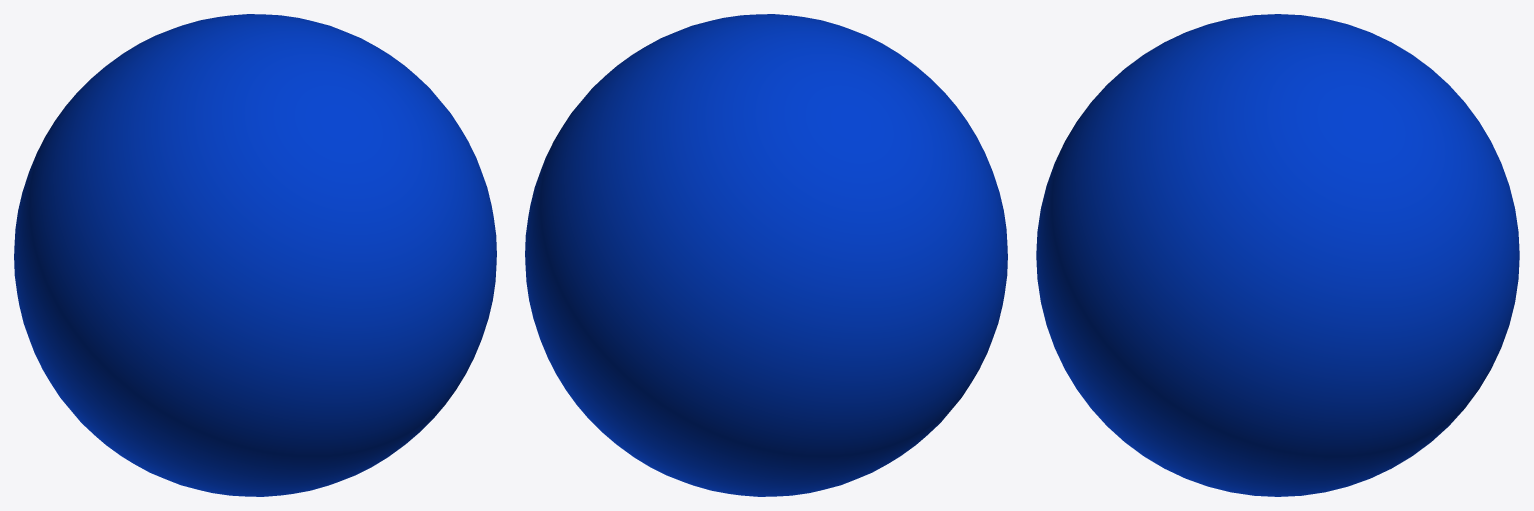
Rendered from earth.gltf.
3 views of the same model, side by side, from view 1: azimuth 30°, elevation 25°; view 2: azimuth 150°, elevation 25°; view 3: azimuth 270°, elevation 25° (orthographic).
Size of the model in its own units: 120 by 120 by 120.
